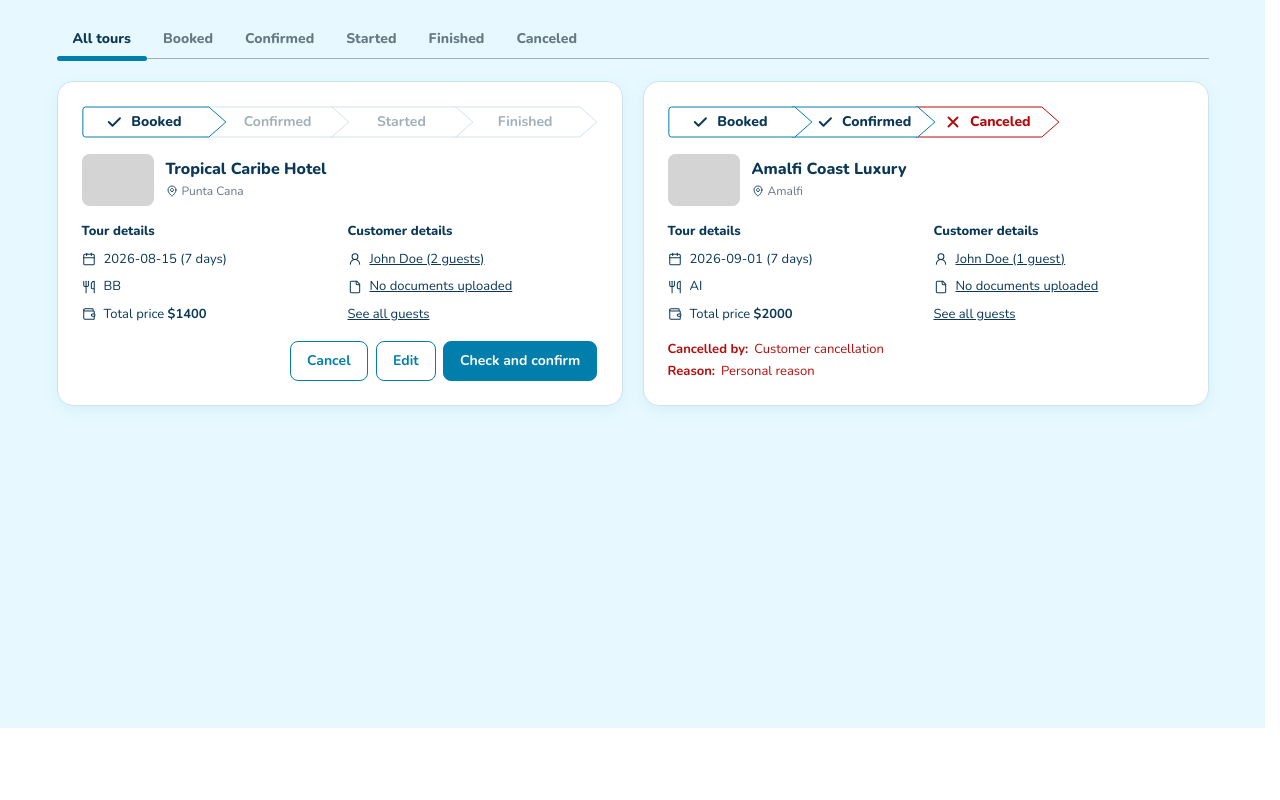
Scenario: MyToursPage Component › shows a clear conflict message when confirmation loses a concurrent update
Click the button "Check and confirm": coordinates (520, 361) [443,341,598,381]
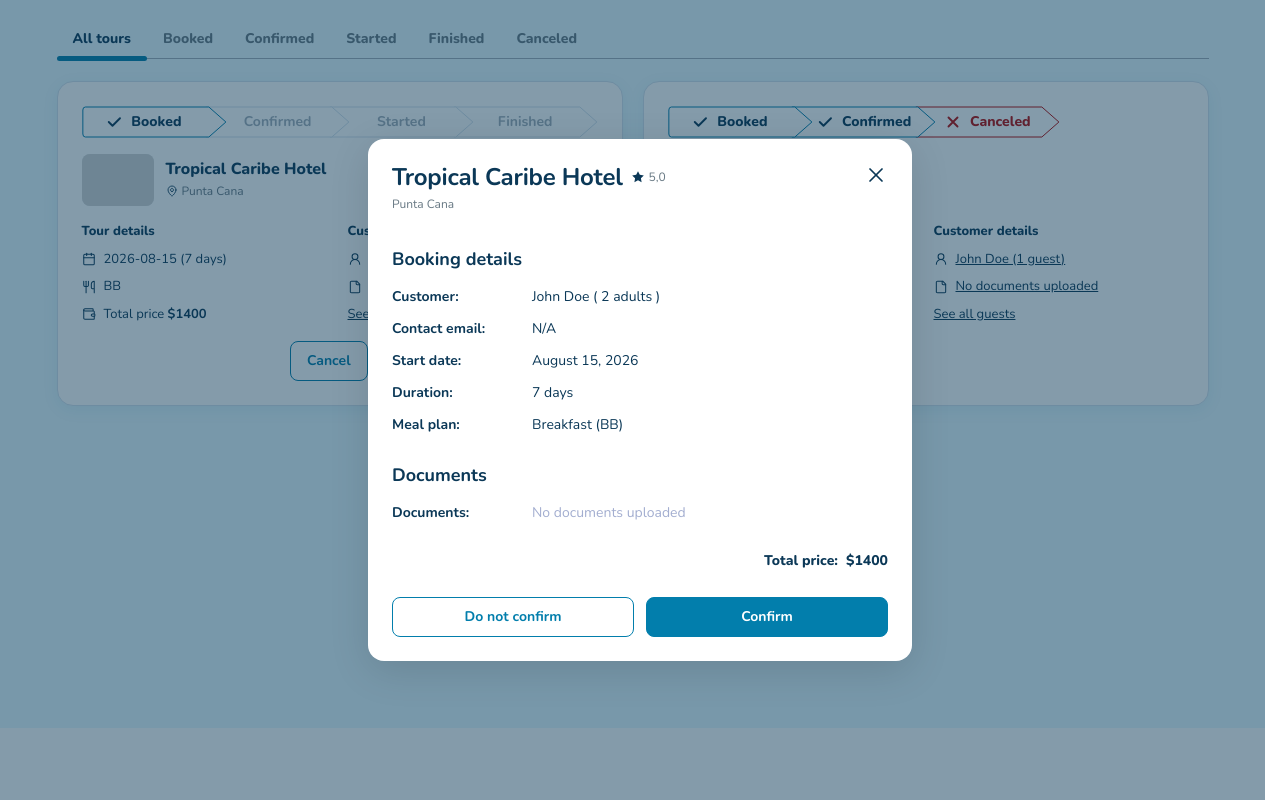
Click the button with test id "confirm-booking-button": coordinates (767, 617) [646,597,888,637]
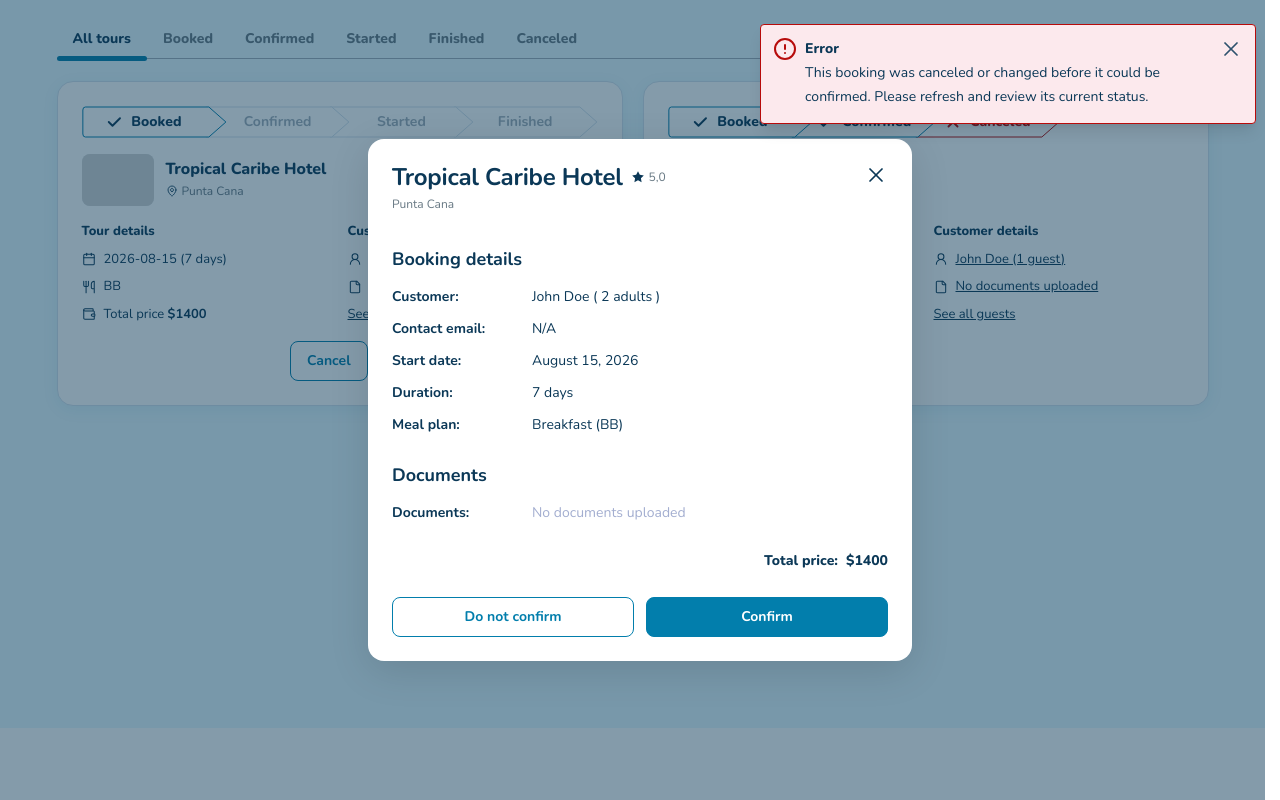
Expected: the text "This booking was canceled or changed before it could be confirmed. Please refresh and review its current status." is shown, [805,63,1160,106]
